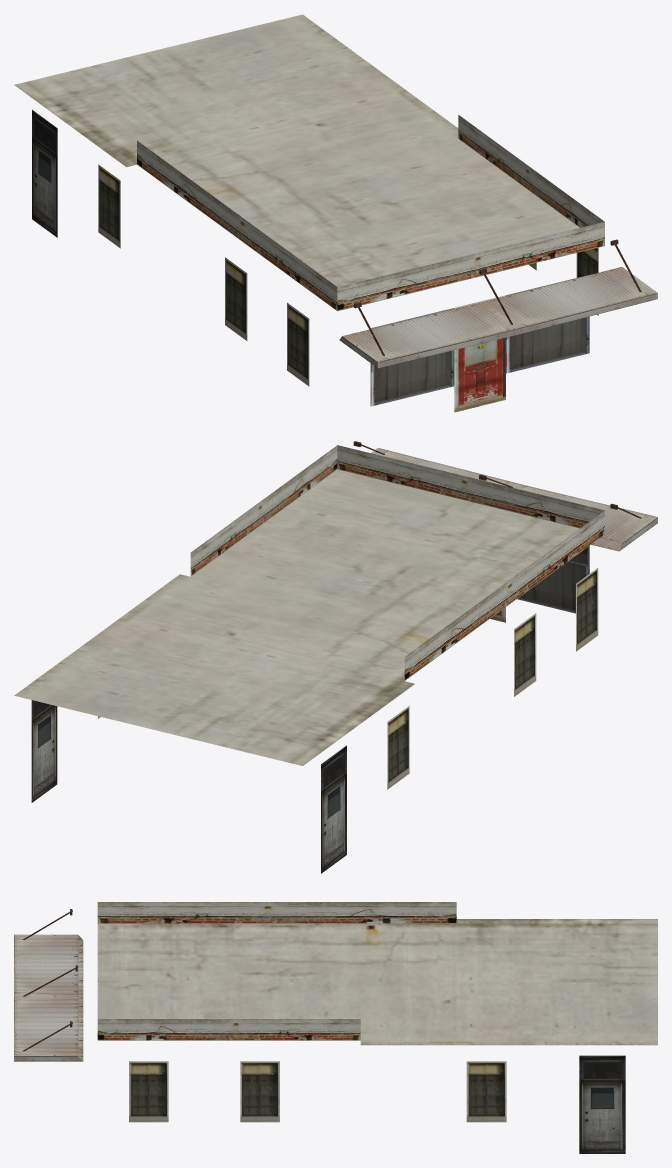
The model's file is rural_storesmall_3_rural_facade_flr_2_0.glb.
The picture shows the model from 3 angles, top to bottom: view 1: azimuth 30°, elevation 25°; view 2: azimuth 150°, elevation 25°; view 3: azimuth 270°, elevation 25°; orthographic projection. The views are drawn at different scales.
Visible parts, largest first — view 1: Rural_StoreSmall_3_Rural_Facade_FLR_2_0; view 2: Rural_StoreSmall_3_Rural_Facade_FLR_2_0; view 3: Rural_StoreSmall_3_Rural_Facade_FLR_2_0.
Part boxes in pixels (left/top/right/bottom): Rural_StoreSmall_3_Rural_Facade_FLR_2_0: left=14, top=14, right=657, bottom=412; Rural_StoreSmall_3_Rural_Facade_FLR_2_0: left=14, top=441, right=657, bottom=873; Rural_StoreSmall_3_Rural_Facade_FLR_2_0: left=14, top=902, right=657, bottom=1153.
Size of the model in its own units: 4.49 by 2.15 by 9.65.
1 material, 1 textured.
